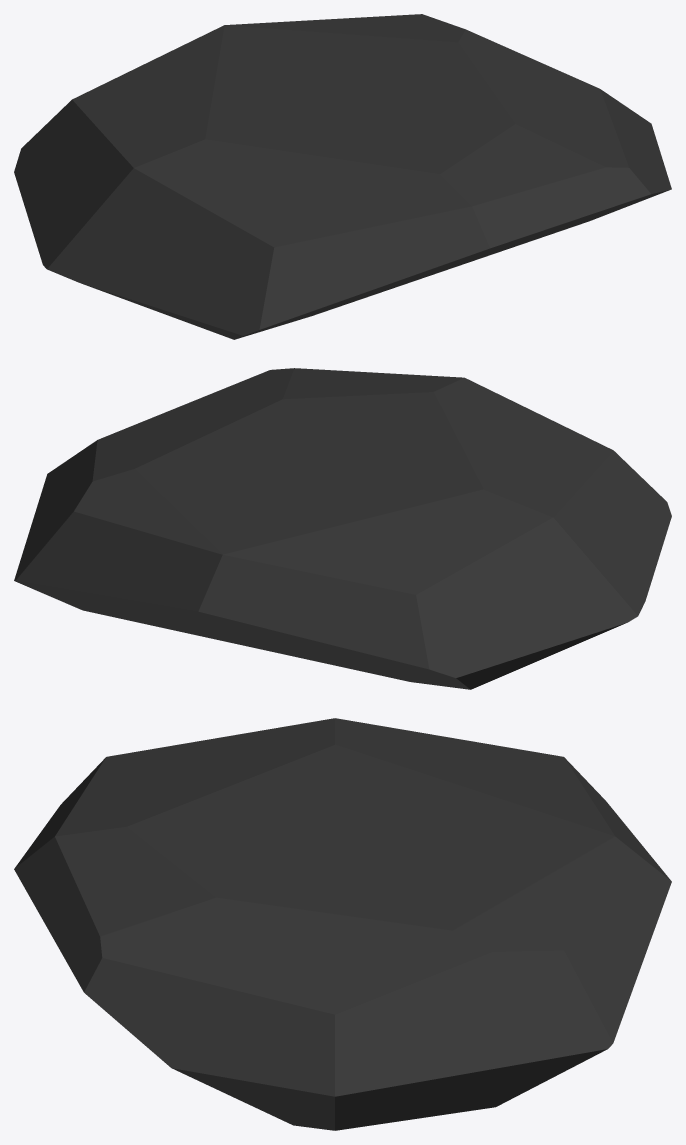
File: stone1.fbx
The picture shows the model from 3 angles, top to bottom: view 1: azimuth 30°, elevation 25°; view 2: azimuth 150°, elevation 25°; view 3: azimuth 270°, elevation 25°; orthographic projection. The views are drawn at different scales.
Parts seen in each view (by area): view 1: stone1; view 2: stone1; view 3: stone1.
Part boxes in pixels (x1,y1,x2,y2): stone1: [14, 14, 671, 339]; stone1: [14, 368, 671, 689]; stone1: [14, 718, 671, 1130].
Bounding box in the file's own units: 141 × 35.1 × 117.
